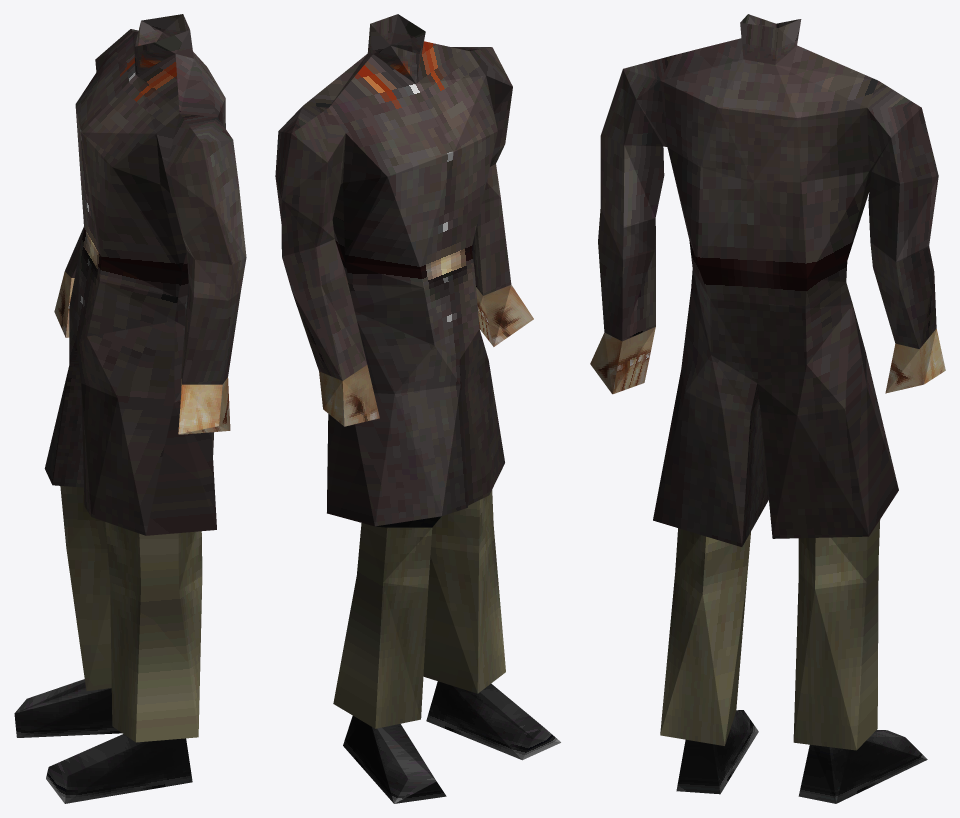
Rendered from primary_076.glb.
The picture shows the model from 3 angles, left to right: view 1: azimuth 30°, elevation 25°; view 2: azimuth 150°, elevation 25°; view 3: azimuth 270°, elevation 25°; orthographic projection. The views are drawn at different scales.
Visible parts, largest first — view 1: Object; view 2: Object; view 3: Object.
Boxes of the visible parts, bbox=[...] form: Object: bbox=[14, 14, 246, 803]; Object: bbox=[275, 14, 560, 803]; Object: bbox=[590, 14, 945, 803].
Bounding box in the file's own units: 0.5126 × 1.8 × 0.7372.
77 materials, 77 textured.
